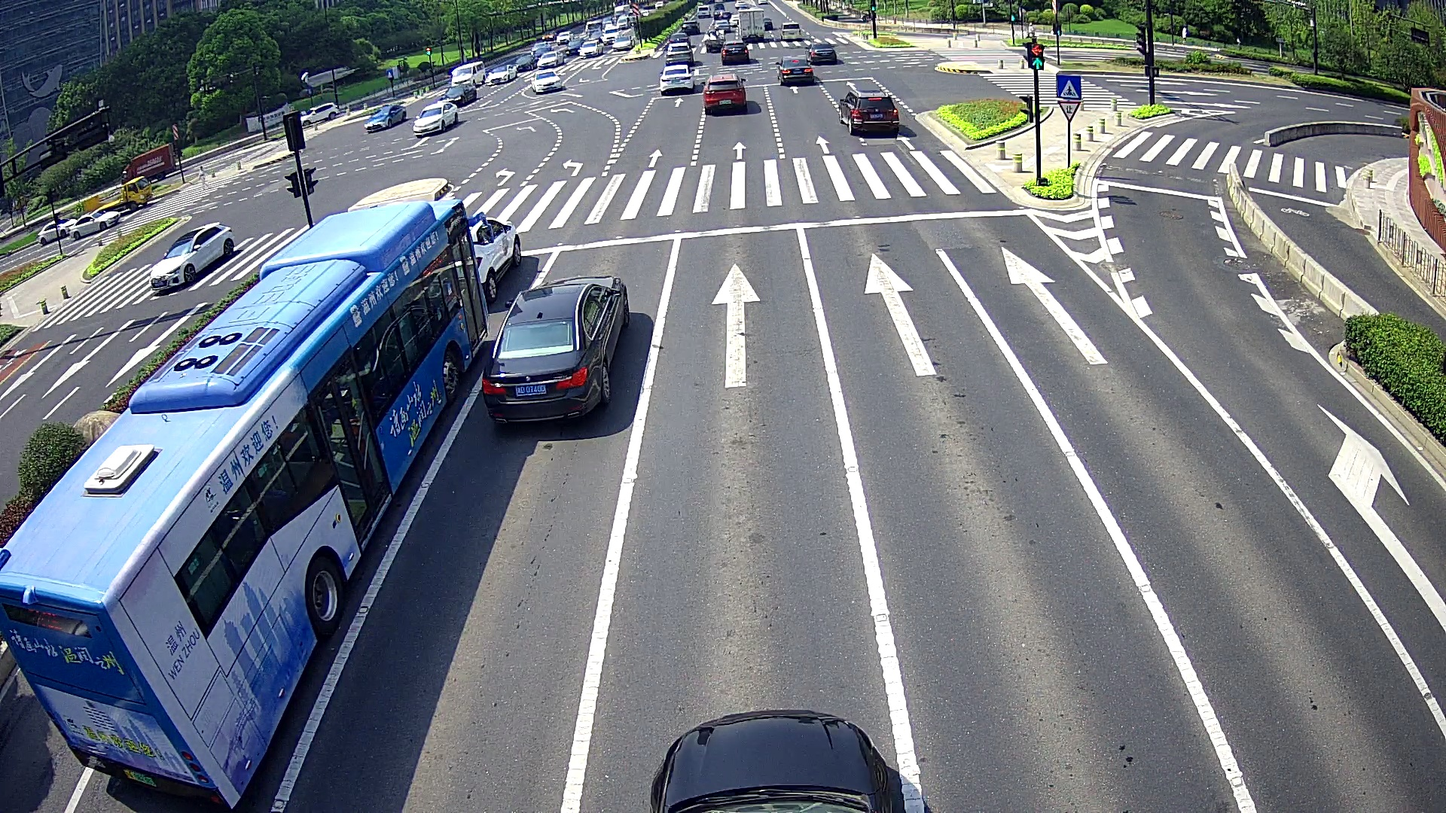vehicle: (5, 193, 475, 799), (476, 271, 630, 424), (143, 221, 236, 291), (834, 85, 900, 137), (699, 66, 749, 117), (411, 99, 459, 140), (654, 62, 694, 95), (770, 53, 813, 83), (362, 101, 405, 131), (65, 210, 120, 233), (526, 68, 563, 96)
